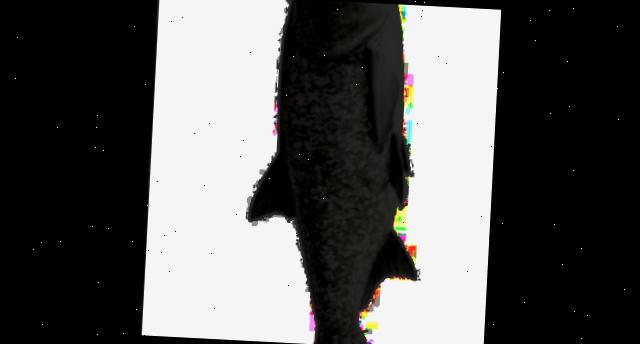Healthy Fish: (249, 0, 413, 344)
